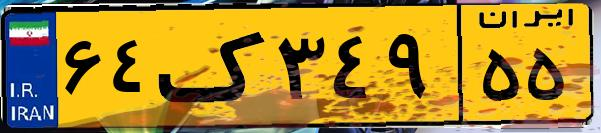3: (270, 28, 330, 110)
4: (330, 28, 385, 110), (110, 28, 158, 98)
5: (475, 38, 525, 113), (525, 38, 570, 115)
6: (57, 26, 110, 100)
9: (385, 28, 445, 110)
ک: (158, 12, 270, 120)
